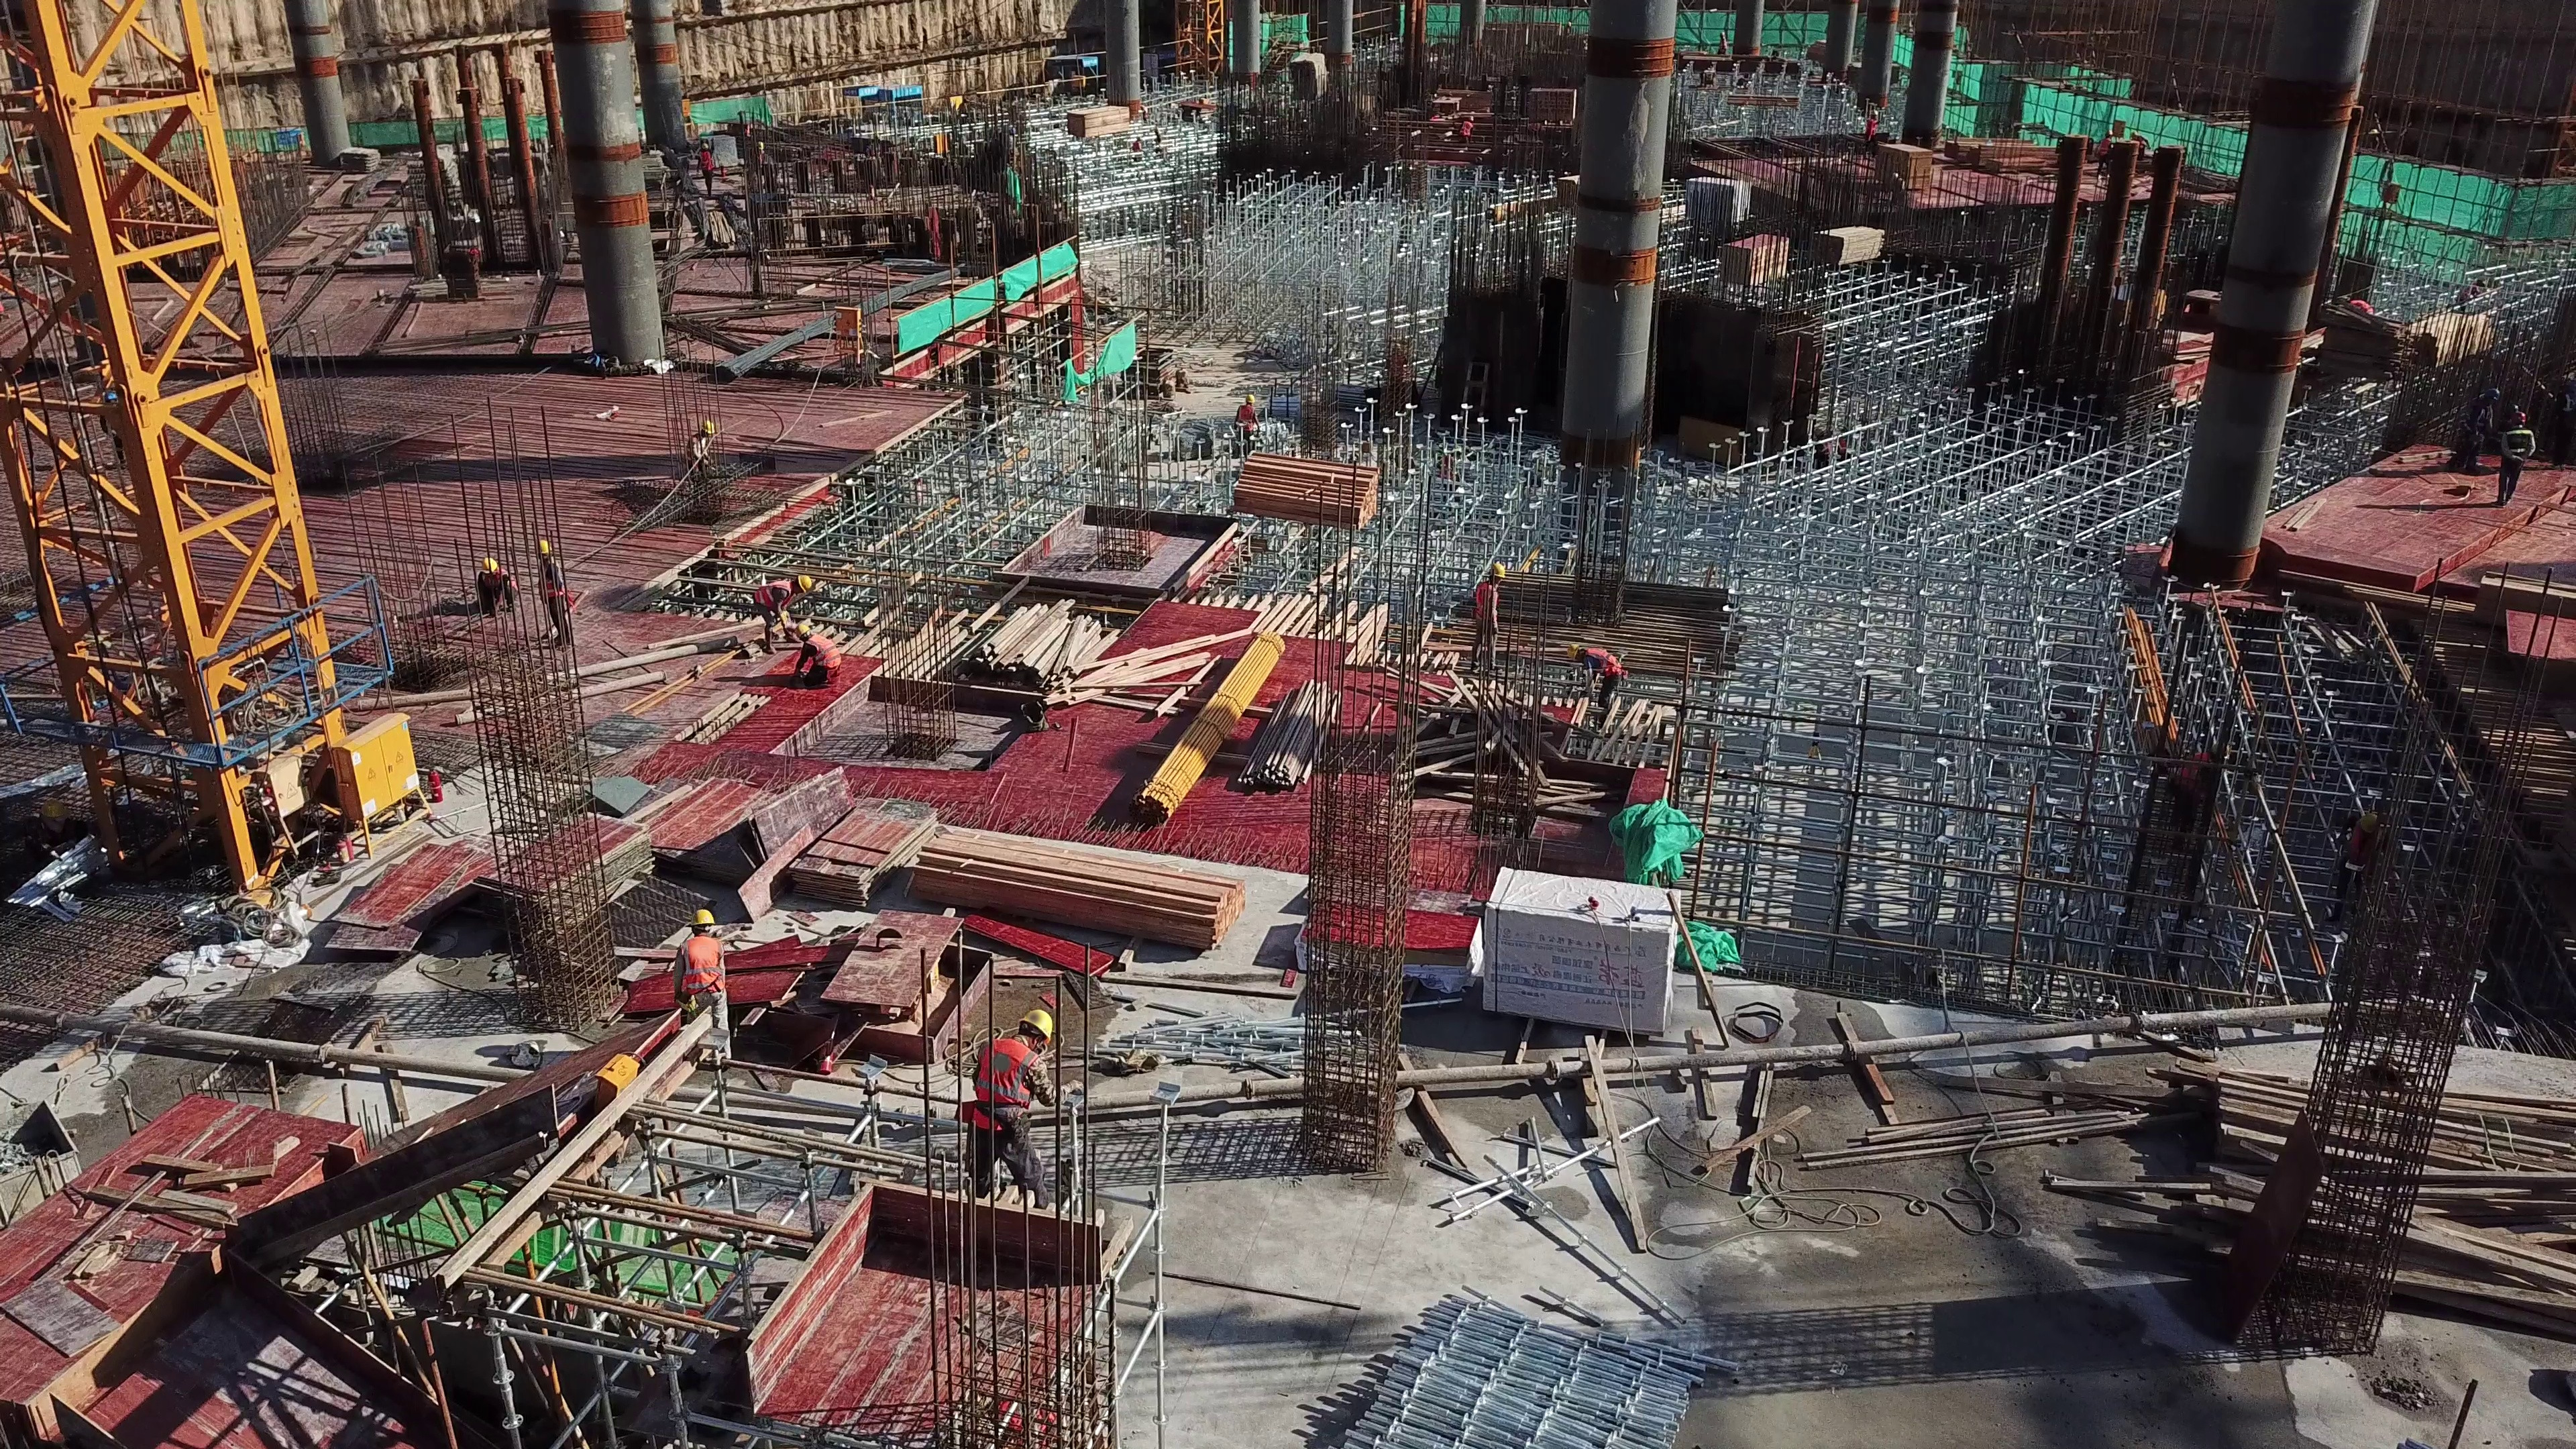helmet: (1016, 1008, 1051, 1045), (690, 908, 713, 928), (2358, 810, 2378, 835), (797, 574, 812, 594), (479, 556, 495, 575), (1489, 562, 1506, 579), (1564, 642, 1577, 663), (795, 622, 810, 637), (2511, 410, 2525, 424)
person: (962, 1003, 1068, 1211), (669, 908, 730, 1032), (2330, 811, 2383, 922), (751, 570, 816, 658), (2445, 387, 2502, 476), (533, 540, 576, 651), (1566, 636, 1625, 714), (1468, 562, 1507, 674), (2494, 411, 2536, 508), (794, 621, 847, 693), (476, 555, 519, 616), (684, 419, 720, 470), (1231, 394, 1262, 443), (697, 140, 716, 199), (2096, 129, 2114, 180), (1864, 108, 1878, 161), (1458, 113, 1477, 141)
vest: (972, 1040, 1039, 1130), (678, 937, 722, 998), (1581, 648, 1622, 683), (755, 576, 794, 612), (807, 635, 841, 668), (1477, 585, 1498, 628), (2504, 428, 2529, 462), (1238, 403, 1255, 432)
